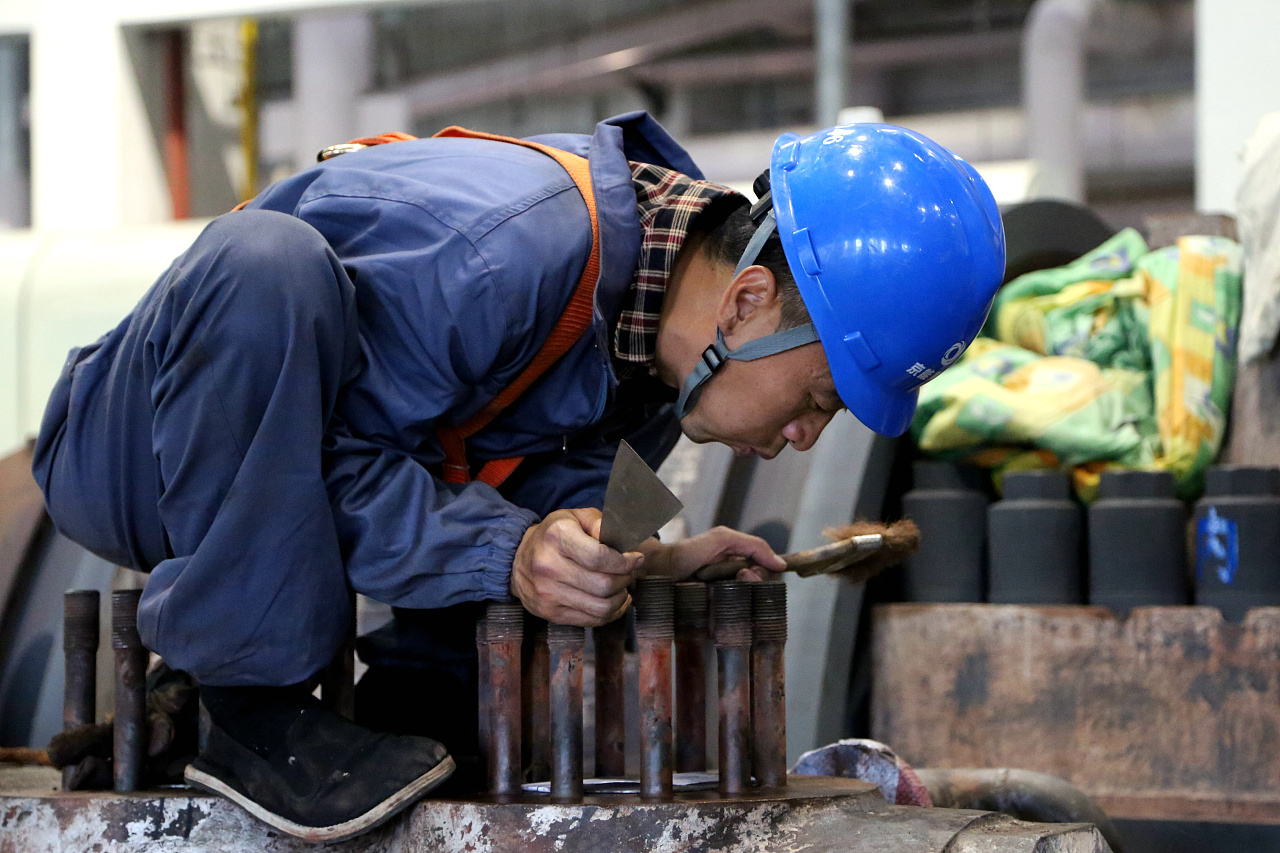safetyhat: (64, 24, 1081, 769)
